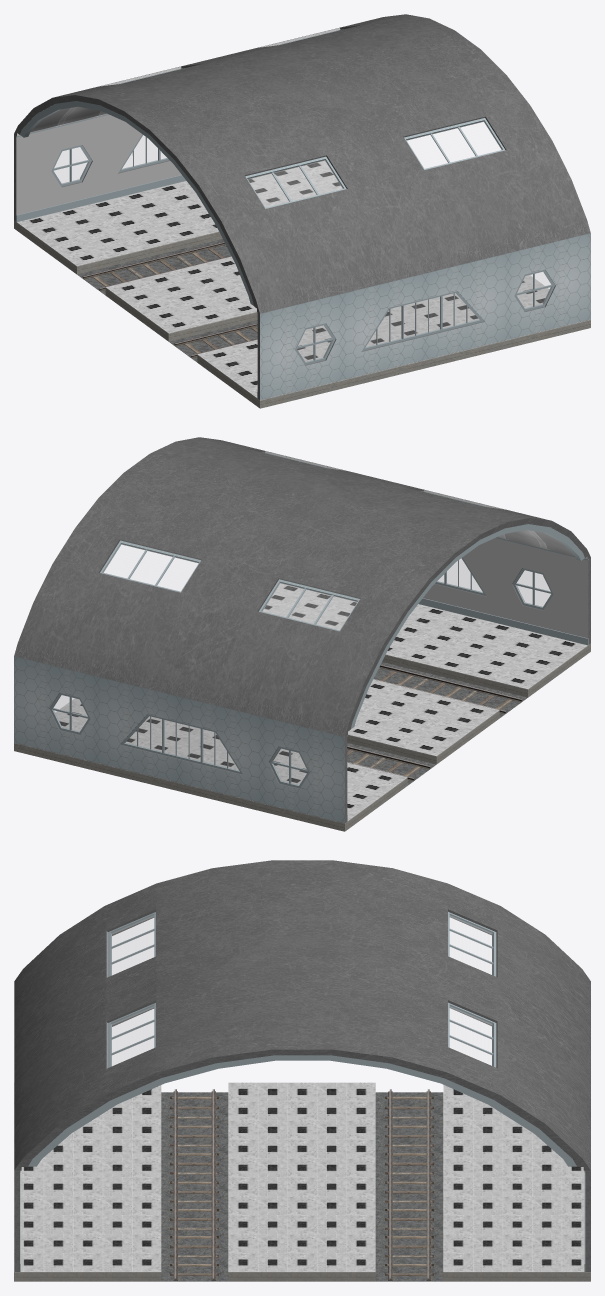
Rendered from Station02_B.FBX.
3 views of the same model, one above another, from view 1: azimuth 30°, elevation 25°; view 2: azimuth 150°, elevation 25°; view 3: azimuth 270°, elevation 25° (orthographic). The views are drawn at different scales.
Parts seen in each view (by area): view 1: Station02Roof, Station02Wall01, Station02Floor, Station02Window01, Station02RoofWindow, Station02FloorRailway, Station02Window01Mtl, Station02Railway, Station02RoofWinds, Station02Roof01Mtl, Station02WallPanel; view 2: Station02Roof, Station02Wall01, Station02Floor, Station02Window01, Station02RoofWindow, Station02Window01Mtl, Station02FloorRailway, Station02Railway, Station02RoofWinds, Station02Roof01Mtl, Station02WallPanel; view 3: Station02Roof, Station02Floor, Station02FloorRailway, Station02Railway, Station02RoofWindow, Station02Roof01Mtl, Station02RoofWinds, Station02Wall01.
Boxes of the visible parts, x1,y1,x2,y2 form: Station02Roof: (14, 14, 590, 313); Station02Wall01: (14, 115, 590, 399); Station02Floor: (14, 160, 590, 408); Station02Window01: (54, 135, 550, 361); Station02RoofWindow: (248, 121, 501, 206); Station02FloorRailway: (77, 239, 257, 362); Station02Window01Mtl: (51, 134, 554, 364); Station02Railway: (82, 242, 257, 358); Station02RoofWinds: (117, 29, 505, 208); Station02Roof01Mtl: (20, 101, 253, 305); Station02WallPanel: (16, 114, 257, 397); Station02Roof: (14, 437, 590, 736); Station02Wall01: (14, 538, 590, 823); Station02Floor: (14, 583, 590, 831); Station02Window01: (53, 558, 550, 784); Station02RoofWindow: (103, 544, 357, 629); Station02Window01Mtl: (49, 557, 553, 788); Station02FloorRailway: (347, 662, 527, 785); Station02Railway: (347, 665, 522, 780); Station02RoofWinds: (100, 452, 487, 631); Station02Roof01Mtl: (351, 524, 584, 728); Station02WallPanel: (347, 537, 588, 821); Station02Roof: (14, 860, 590, 1170); Station02Floor: (14, 1082, 590, 1281); Station02FloorRailway: (161, 1092, 443, 1281); Station02Railway: (170, 1089, 433, 1280); Station02RoofWindow: (111, 915, 492, 1065); Station02Roof01Mtl: (28, 1055, 576, 1166); Station02RoofWinds: (107, 912, 496, 1067); Station02Wall01: (14, 1170, 590, 1271).
Bounding box in the file's own units: 36504 × 20867 × 47028.
